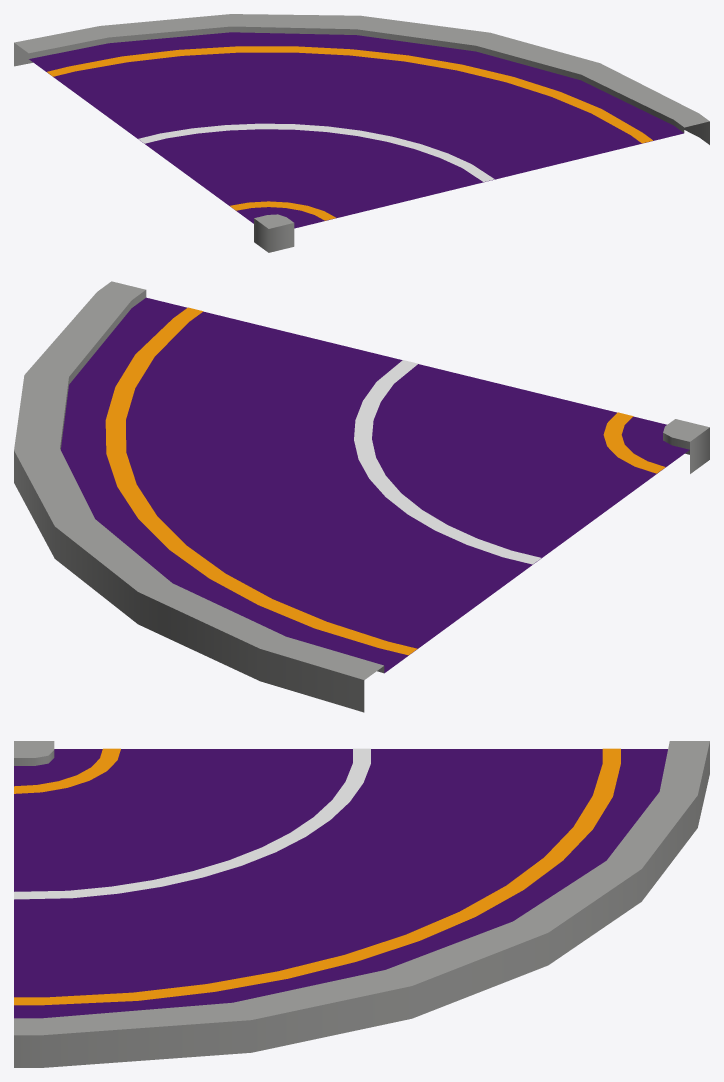
File: Road_C_8.fbx
3 views of the same model, one above another, from view 1: azimuth 30°, elevation 25°; view 2: azimuth 150°, elevation 25°; view 3: azimuth 270°, elevation 25° (orthographic). The views are drawn at different scales.
Visible parts, largest first — view 1: Road_C_8; view 2: Road_C_8; view 3: Road_C_8.
Boxes of the visible parts, x1,y1,x2,y2 form: Road_C_8: (14, 14, 709, 252); Road_C_8: (14, 281, 709, 712); Road_C_8: (14, 741, 709, 1067).
Bounding box in the file's own units: 800 × 41.48 × 800.
